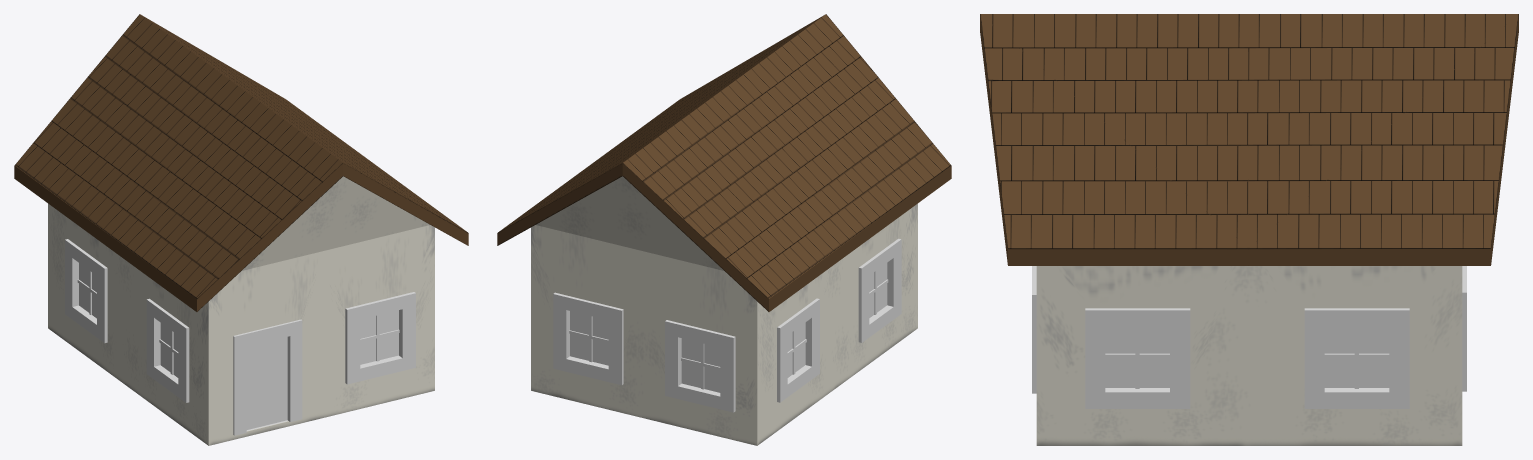
File: 1_house_4.fbx
The picture shows the model from 3 angles, left to right: view 1: azimuth 30°, elevation 25°; view 2: azimuth 150°, elevation 25°; view 3: azimuth 270°, elevation 25°; orthographic projection. The views are drawn at different scales.
Parts seen in each view (by area): view 1: roof, exterior, door, window, window.006, window.005; view 2: roof, exterior, window.004, window.003, window.006, window.005; view 3: roof, exterior, window.002, window.001, window, window.003.
Boxes of the visible parts, x1,y1,x2,y2 form: roof: [14, 14, 468, 311]; exterior: [48, 176, 434, 445]; door: [233, 319, 302, 435]; window: [345, 292, 415, 384]; window.006: [146, 298, 189, 402]; window.005: [65, 239, 107, 343]; roof: [497, 14, 951, 311]; exterior: [531, 176, 917, 445]; window.004: [665, 320, 735, 412]; window.003: [553, 292, 623, 385]; window.006: [858, 238, 901, 342]; window.005: [777, 298, 819, 402]; roof: [980, 14, 1518, 265]; exterior: [1036, 266, 1462, 445]; window.002: [1304, 308, 1409, 408]; window.001: [1085, 308, 1190, 408]; window: [1032, 266, 1036, 393]; window.003: [1462, 266, 1466, 391].
Size of the model in its own units: 580 by 554 by 753.
